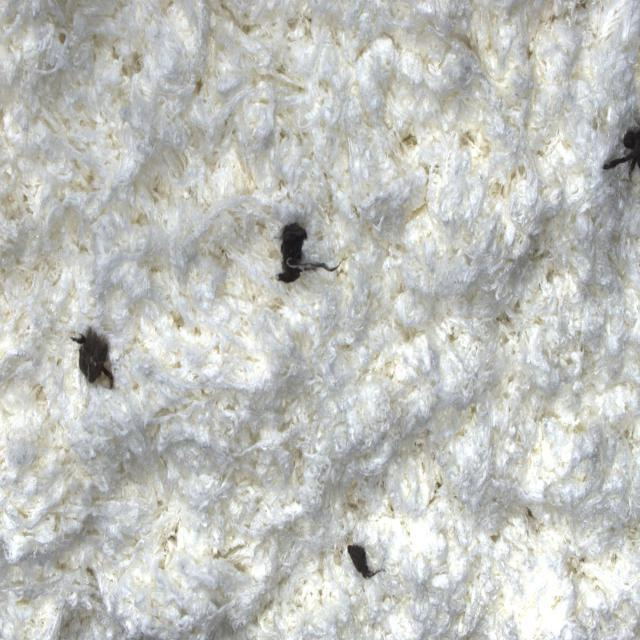dust: (262, 222, 348, 294), (342, 513, 384, 616), (70, 320, 119, 398), (593, 118, 640, 181)
